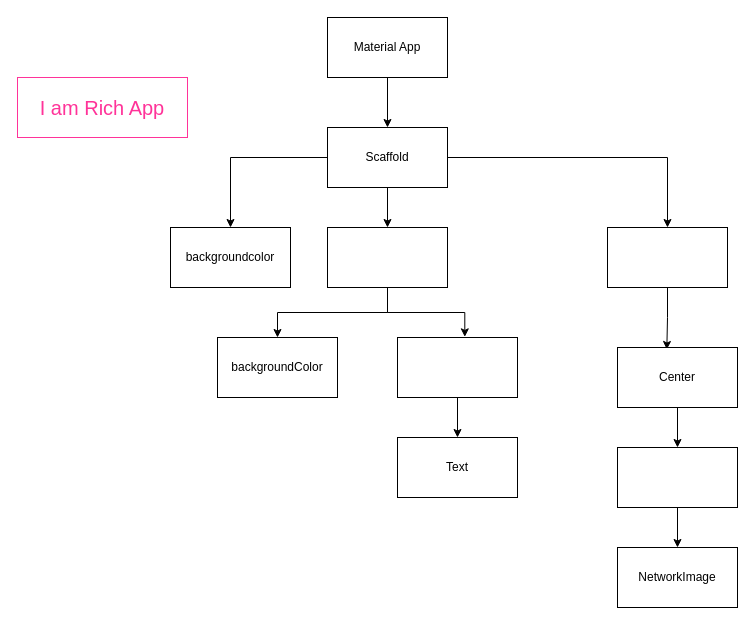
The diagram is 755 pixels wide and 625 high, and some of its shapes have lost their labels. Here are the shapes that lost their labels. From the top down, the centre of each, then its label:
At (387,257): "appbar".
At (667,257): "body".
At (457,367): "title".
At (677,477): "Image".
